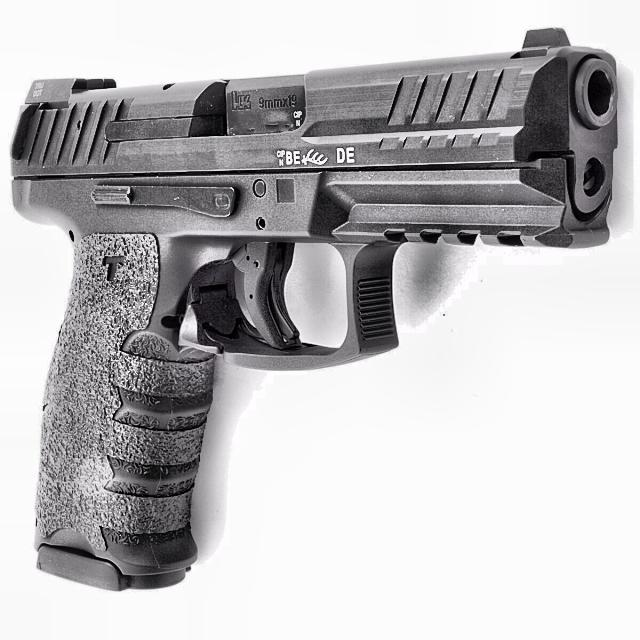HKVP9: (8, 26, 621, 592)
